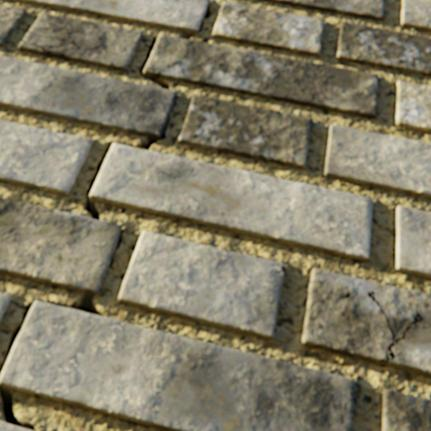brick: (0, 300, 353, 430), (90, 144, 371, 261), (143, 35, 376, 118), (118, 231, 284, 338), (0, 57, 176, 140), (301, 268, 430, 376), (0, 198, 122, 294), (179, 96, 311, 168), (323, 125, 430, 198), (19, 13, 143, 71), (0, 120, 92, 194), (10, 0, 208, 34), (212, 3, 323, 56), (336, 23, 430, 77), (257, 0, 383, 21), (395, 206, 430, 278), (380, 388, 430, 430), (394, 81, 430, 132), (0, 6, 26, 47), (400, 0, 430, 32), (0, 420, 34, 430), (0, 293, 11, 322)
crack: (84, 139, 158, 220), (367, 290, 420, 361), (0, 301, 34, 376), (138, 37, 171, 90), (0, 385, 37, 430), (50, 293, 104, 316), (29, 32, 81, 50), (23, 41, 52, 54), (198, 5, 211, 32), (160, 118, 168, 139), (116, 231, 122, 248), (343, 397, 352, 408), (179, 34, 194, 40), (174, 71, 188, 75), (277, 266, 284, 272), (55, 52, 63, 57), (200, 41, 210, 44), (342, 293, 348, 297)
